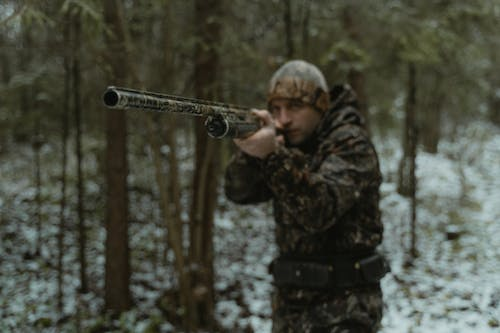gun: (101, 84, 266, 142)
